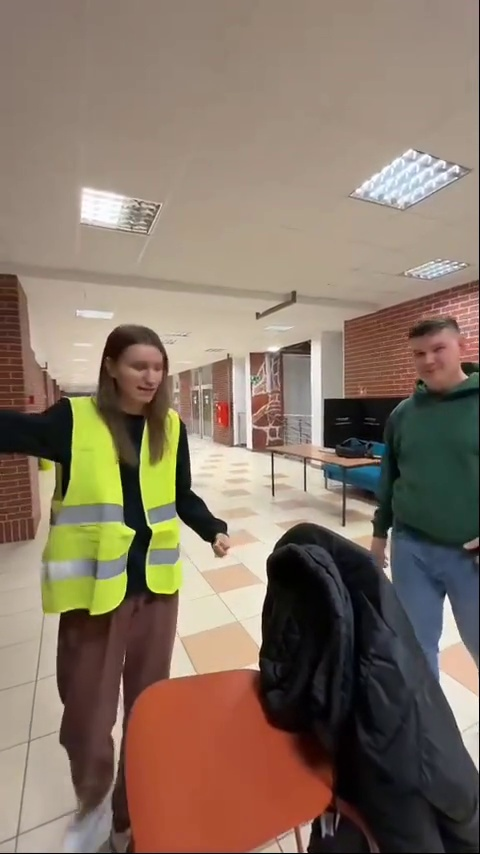no vest: (366, 309, 480, 688)
vest: (42, 326, 229, 801)
